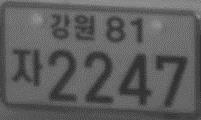1: (128, 16, 148, 43)
2: (82, 49, 114, 105), (46, 48, 78, 102)
4: (117, 52, 153, 106)
7: (154, 53, 188, 107)
8: (104, 16, 126, 43)
강원_H: (49, 13, 96, 41)
자: (12, 47, 44, 86)
